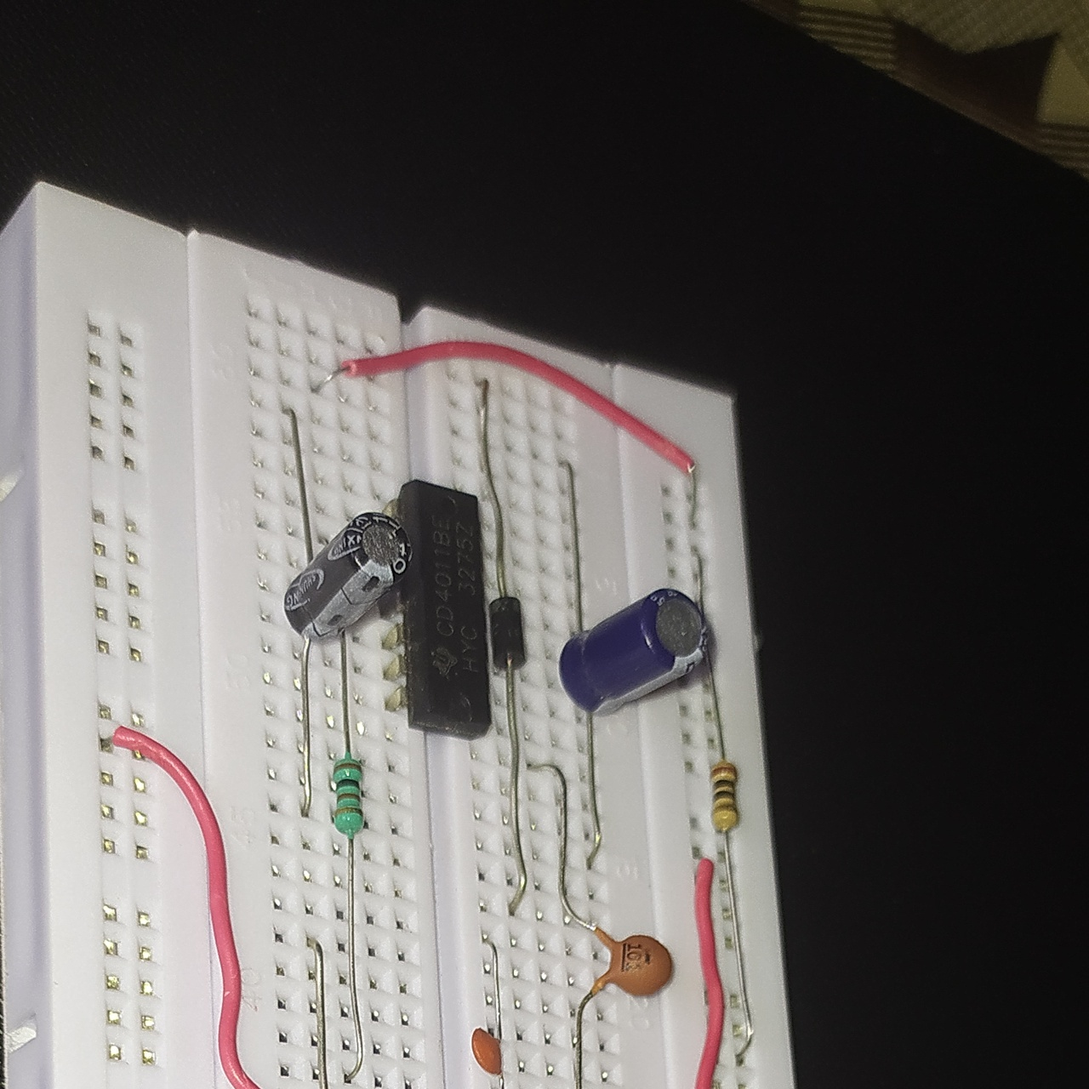capacitor: (557, 584, 709, 720), (280, 510, 411, 642), (587, 920, 672, 1013), (468, 1027, 508, 1082)
resistor: (329, 755, 366, 837), (706, 756, 744, 834)
